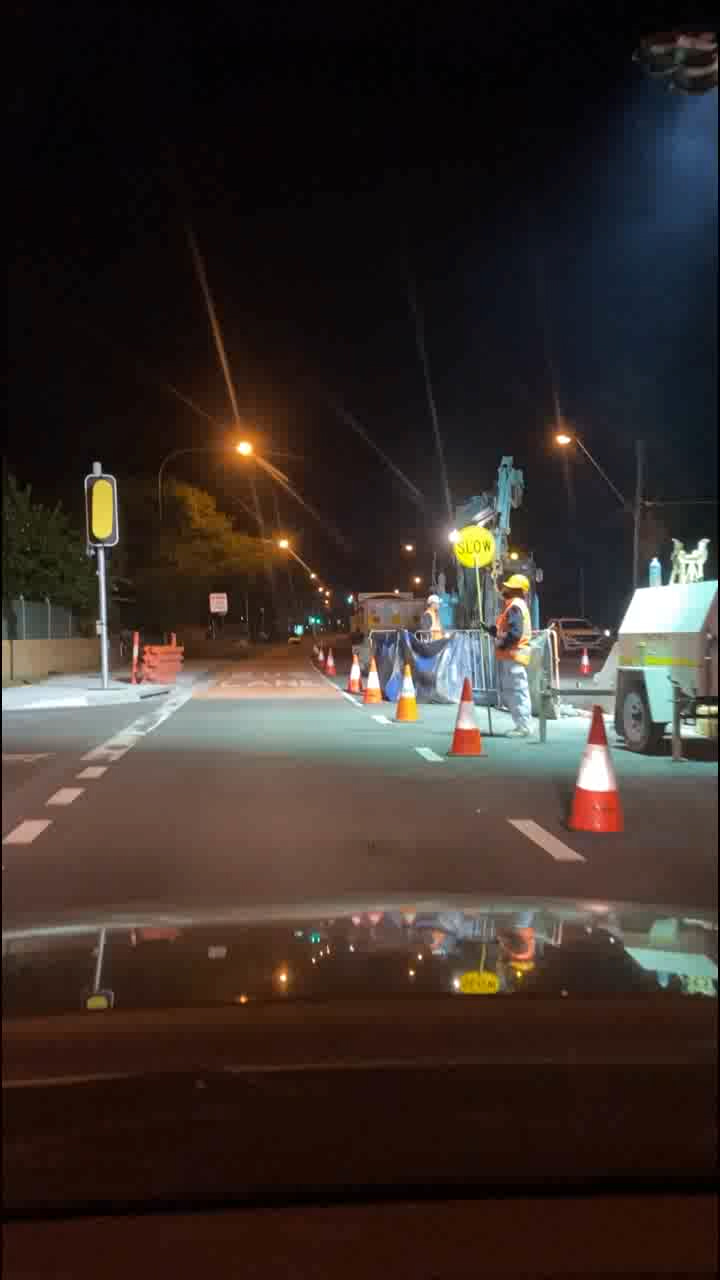person: (452, 525, 539, 734), (402, 588, 452, 646)
road cone: (564, 698, 631, 844), (122, 629, 199, 690), (387, 655, 431, 742), (343, 645, 387, 705), (301, 631, 345, 691)
